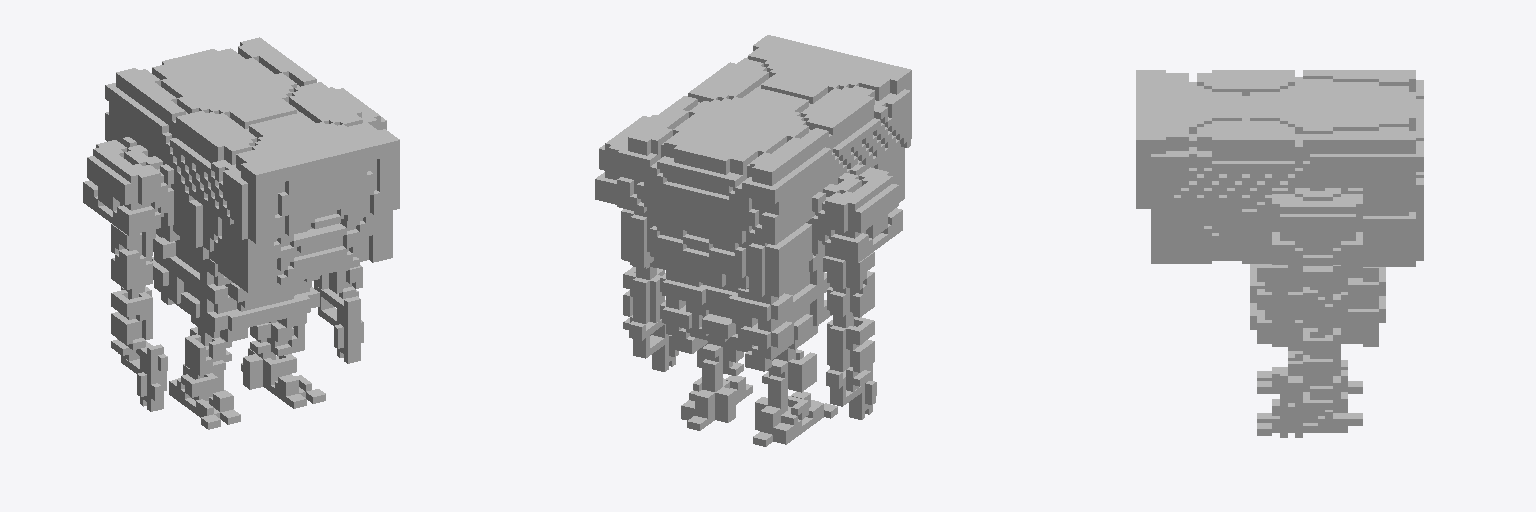
The model's file is Mecha01.obj.
3 views of the same model, side by side, from view 1: azimuth 30°, elevation 25°; view 2: azimuth 150°, elevation 25°; view 3: azimuth 270°, elevation 25° (orthographic).
Parts seen in each view (by area): view 1: object 1; view 2: object 1; view 3: object 1.
Part boxes in pixels (bbox=[...]): object 1: bbox=[83, 37, 399, 429]; object 1: bbox=[595, 35, 911, 446]; object 1: bbox=[1136, 70, 1423, 437].
Size of the model in its own units: 4 by 4.4 by 3.8.